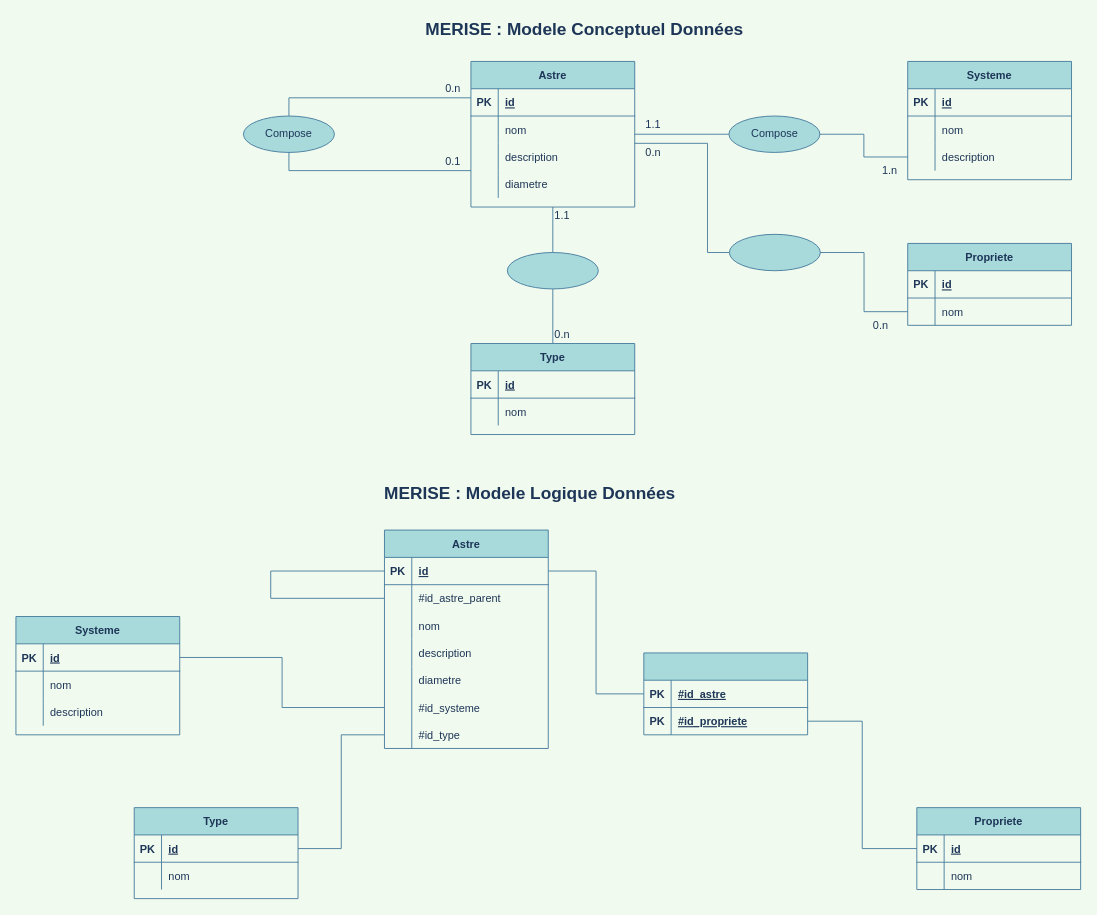
Image size: 1097x915. Some labels were removed from this diagram. The shapes that lost their labels are listed below. From the top down, each one's box as (x1, y1, x2, y2) in pixels, then its label:
(506, 252, 598, 289): Possede
(728, 233, 820, 271): Caracterise
(643, 652, 808, 735): Propriete_Astre
